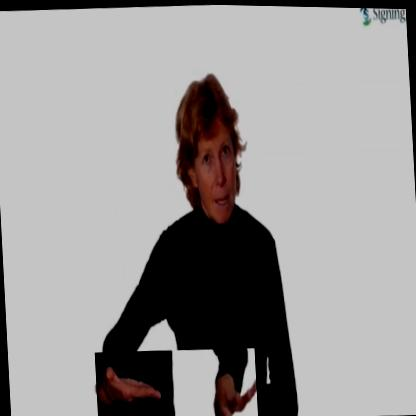Expensive: (94, 344, 258, 416)
